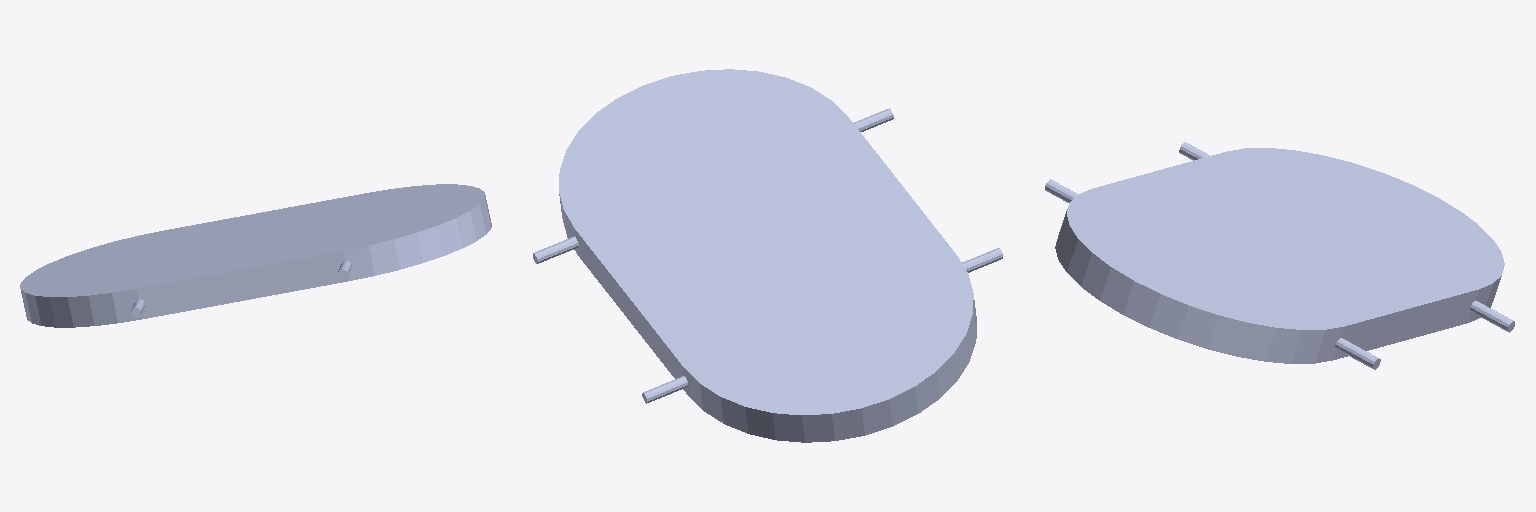
The robot description file, URDF, robot "FWMRASSEMBLY":
<?xml version="1.0" encoding="utf-8"?>
<!-- This URDF was automatically created by SolidWorks to URDF Exporter! Originally created by [author] ([email redacted]) 
     Commit Version: 1.6.0-4-g7f85cfe  Build Version: 1.6.7995.38578
     For more information, please see http://wiki.ros.org/sw_urdf_exporter -->
<robot
  name="FWMRASSEMBLY">
  <link
    name="base_link">
    <inertial>
      <origin
        xyz="-0.194836215789225 0.0393877097299235 0.457269216278777"
        rpy="0 0 0" />
      <mass
        value="23.8752202305694" />
      <inertia
        ixx="0.738998392804084"
        ixy="-0.184905778450458"
        ixz="-0.371970644232162"
        iyy="1.67754114297973"
        iyz="-0.226349002733928"
        izz="1.11973556245517" />
    </inertial>
    <visual>
      <origin
        xyz="0 0 0"
        rpy="0 0 0" />
      <geometry>
        <mesh
          filename="package://FWMRASSEMBLY/meshes/base_link.STL" />
      </geometry>
      <material
        name="">
        <color
          rgba="0.792156862745098 0.819607843137255 0.933333333333333 1" />
      </material>
    </visual>
    <collision>
      <origin
        xyz="0 0 0"
        rpy="0 0 0" />
      <geometry>
        <mesh
          filename="package://FWMRASSEMBLY/meshes/base_link.STL" />
      </geometry>
    </collision>
  </link>
  <link
    name="Front_left_wheel">
    <inertial>
      <origin
        xyz="-2.4980018054066E-16 1.11022302462516E-16 0.0299999999999992"
        rpy="0 0 0" />
      <mass
        value="32.342003157065" />
      <inertia
        ixx="1.21649490313459"
        ixy="-1.33171251803788E-13"
        ixz="2.01325067727964E-13"
        iyy="1.72107635287551"
        iyz="-2.60902410786912E-14"
        izz="2.86711843222717" />
    </inertial>
    <visual>
      <origin
        xyz="0 0 0"
        rpy="0 0 0" />
      <geometry>
        <mesh
          filename="package://FWMRASSEMBLY/meshes/Front_left_wheel.STL" />
      </geometry>
      <material
        name="">
        <color
          rgba="1 1 1 1" />
      </material>
    </visual>
    <collision>
      <origin
        xyz="0 0 0"
        rpy="0 0 0" />
      <geometry>
        <mesh
          filename="package://FWMRASSEMBLY/meshes/Front_left_wheel.STL" />
      </geometry>
    </collision>
  </link>
  <joint
    name="Front_left_joint"
    type="revolute">
    <origin
      xyz="0 0 0"
      rpy="0 0 0" />
    <parent
      link="base_link" />
    <child
      link="Front_left_wheel" />
    <axis
      xyz="0 1 0" />
    <limit
      lower="0"
      upper="0"
      effort="0"
      velocity="0" />
  </joint>
  <link
    name="Front_right_wheel">
    <inertial>
      <origin
        xyz="-2.4980018054066E-16 1.11022302462516E-16 0.0299999999999992"
        rpy="0 0 0" />
      <mass
        value="32.342003157065" />
      <inertia
        ixx="1.21649490313459"
        ixy="-1.32893696047631E-13"
        ixz="2.01394456667003E-13"
        iyy="1.72107635287551"
        iyz="-2.6256774532385E-14"
        izz="2.86711843222717" />
    </inertial>
    <visual>
      <origin
        xyz="0 0 0"
        rpy="0 0 0" />
      <geometry>
        <mesh
          filename="package://FWMRASSEMBLY/meshes/Front_right_wheel.STL" />
      </geometry>
      <material
        name="">
        <color
          rgba="1 1 1 1" />
      </material>
    </visual>
    <collision>
      <origin
        xyz="0 0 0"
        rpy="0 0 0" />
      <geometry>
        <mesh
          filename="package://FWMRASSEMBLY/meshes/Front_right_wheel.STL" />
      </geometry>
    </collision>
  </link>
  <joint
    name="Front_right_joint"
    type="revolute">
    <origin
      xyz="0 0 0"
      rpy="0 0 0" />
    <parent
      link="base_link" />
    <child
      link="Front_right_wheel" />
    <axis
      xyz="0 -1 0" />
    <limit
      lower="0"
      upper="0"
      effort="0"
      velocity="0" />
  </joint>
  <link
    name="Rear_left_wheel">
    <inertial>
      <origin
        xyz="-1.38777878078145E-16 -5.55111512312578E-17 0.0299999999999992"
        rpy="0 0 0" />
      <mass
        value="32.342003157065" />
      <inertia
        ixx="1.21649490313459"
        ixy="-1.33171251803788E-13"
        ixz="2.01325067727964E-13"
        iyy="1.72107635287551"
        iyz="-2.60902410786912E-14"
        izz="2.86711843222717" />
    </inertial>
    <visual>
      <origin
        xyz="0 0 0"
        rpy="0 0 0" />
      <geometry>
        <mesh
          filename="package://FWMRASSEMBLY/meshes/Rear_left_wheel.STL" />
      </geometry>
      <material
        name="">
        <color
          rgba="1 1 1 1" />
      </material>
    </visual>
    <collision>
      <origin
        xyz="0 0 0"
        rpy="0 0 0" />
      <geometry>
        <mesh
          filename="package://FWMRASSEMBLY/meshes/Rear_left_wheel.STL" />
      </geometry>
    </collision>
  </link>
  <joint
    name="Rear_left_joint"
    type="revolute">
    <origin
      xyz="0 0 0"
      rpy="0 0 0" />
    <parent
      link="base_link" />
    <child
      link="Rear_left_wheel" />
    <axis
      xyz="0 1 0" />
    <limit
      lower="0"
      upper="0"
      effort="0"
      velocity="0" />
  </joint>
  <link
    name="Rear_right_wheel">
    <inertial>
      <origin
        xyz="-2.4980018054066E-16 1.11022302462516E-16 0.0299999999999992"
        rpy="0 0 0" />
      <mass
        value="32.342003157065" />
      <inertia
        ixx="1.21649490313459"
        ixy="-1.33171251803788E-13"
        ixz="2.01325067727964E-13"
        iyy="1.72107635287551"
        iyz="-2.60902410786912E-14"
        izz="2.86711843222717" />
    </inertial>
    <visual>
      <origin
        xyz="0 0 0"
        rpy="0 0 0" />
      <geometry>
        <mesh
          filename="package://FWMRASSEMBLY/meshes/Rear_right_wheel.STL" />
      </geometry>
      <material
        name="">
        <color
          rgba="1 1 1 1" />
      </material>
    </visual>
    <collision>
      <origin
        xyz="0 0 0"
        rpy="0 0 0" />
      <geometry>
        <mesh
          filename="package://FWMRASSEMBLY/meshes/Rear_right_wheel.STL" />
      </geometry>
    </collision>
  </link>
  <joint
    name="Rear_right_joint"
    type="revolute">
    <origin
      xyz="0 0 0"
      rpy="0 0 0" />
    <parent
      link="base_link" />
    <child
      link="Rear_right_wheel" />
    <axis
      xyz="0 -1 0" />
    <limit
      lower="0"
      upper="0"
      effort="30"
      velocity="30" />
  </joint>
</robot>

--- Facts derived from the render (not from the file) ---
The picture shows the robot from 3 angles, left to right: view 1: azimuth 30°, elevation 25°; view 2: azimuth 150°, elevation 25°; view 3: azimuth 270°, elevation 25°; orthographic projection.
Model FWMRASSEMBLY with 5 links and 4 joints (4 revolute), rooted at base_link, posed all joints at 0.
Visible links, largest first — view 1: base_link; view 2: base_link; view 3: base_link.
Boxes of the visible links, <box> form: base_link: <box>20,184,491,327</box>; base_link: <box>533,69,1002,442</box>; base_link: <box>1045,142,1514,369</box>.
Size in the robot's own frame: 0.8305 by 0.7399 by 0.2984 metres.
Meshes: 5 distinct files referenced, 1 mesh visuals loaded (1 binary STL); not drawn: 4 (file found but could not be loaded).